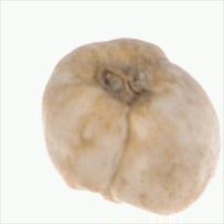L3: (75, 188, 142, 207)
L4: (42, 38, 220, 215)
